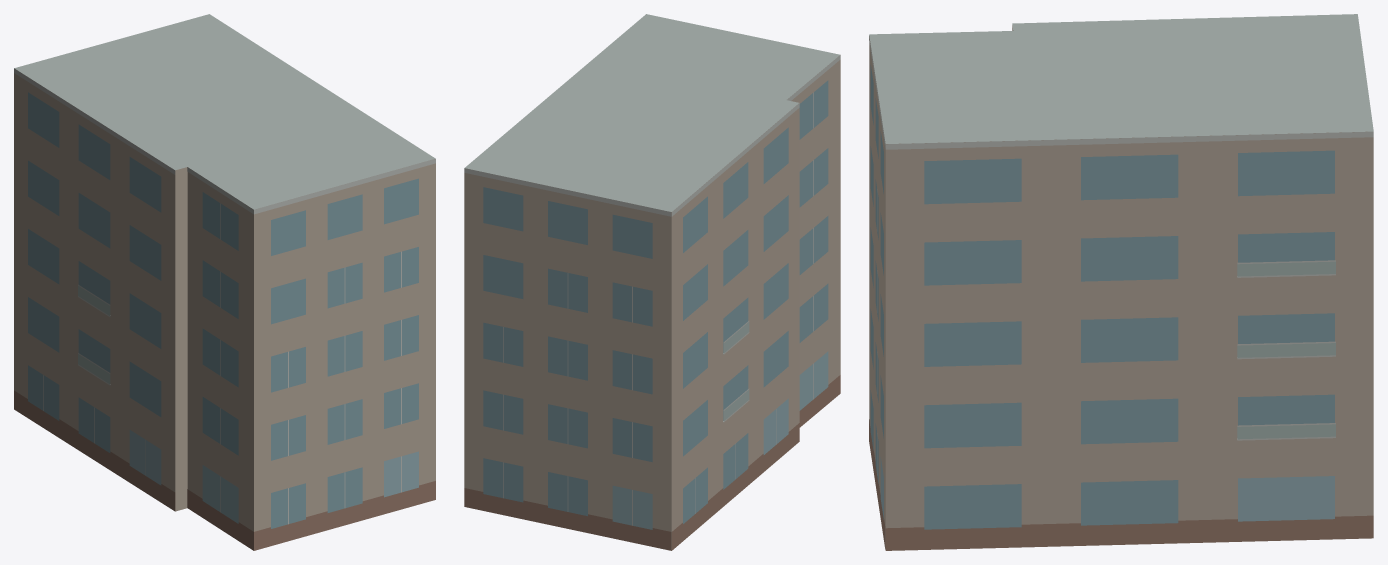
The model's file is survey-upis-32871630.glb.
The picture shows the model from 3 angles, left to right: view 1: azimuth 30°, elevation 25°; view 2: azimuth 150°, elevation 25°; view 3: azimuth 270°, elevation 25°; orthographic projection. The views are drawn at different scales.
Parts seen in each view (by area): view 1: survey-upis-32871630.tmp; view 2: survey-upis-32871630.tmp; view 3: survey-upis-32871630.tmp.
Part boxes in pixels (left/top/right/bottom): survey-upis-32871630.tmp: left=14, top=14, right=435, bottom=550; survey-upis-32871630.tmp: left=464, top=14, right=840, bottom=550; survey-upis-32871630.tmp: left=869, top=14, right=1373, bottom=550.
Size of the model in its own units: 12.02 by 17.5 by 19.69.
